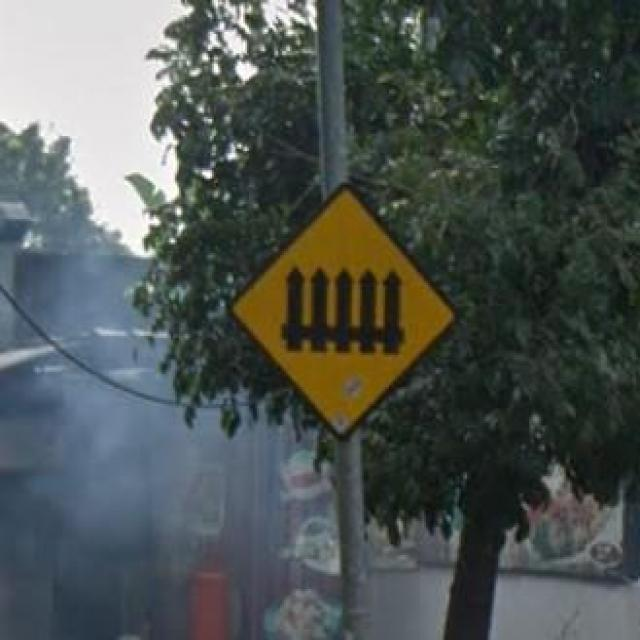traffic sign: (245, 190, 446, 428)
